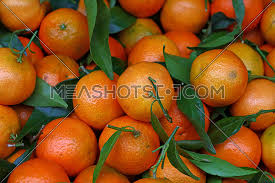orange: (36, 117, 101, 173), (115, 61, 174, 119), (68, 68, 127, 125), (101, 118, 162, 173), (191, 49, 249, 105), (203, 121, 262, 175), (158, 95, 210, 145), (40, 10, 90, 59), (1, 45, 35, 106)
